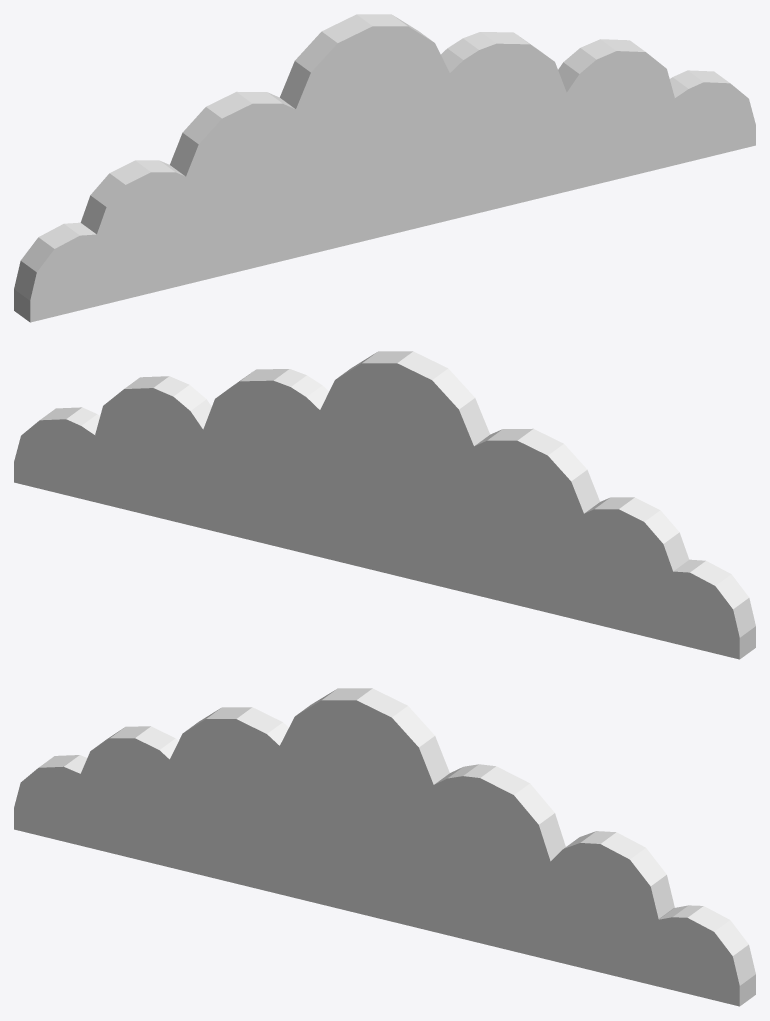
The model's file is cartoon_cloud_7.fbx.
3 renders of one model, top to bottom at view 1: azimuth 30°, elevation 25°; view 2: azimuth 150°, elevation 25°; view 3: azimuth 330°, elevation 25°, orthographic.
Visible parts, largest first — view 1: cloud_77; view 2: cloud_77; view 3: cloud_77.
Boxes of the visible parts, x1=… form: cloud_77: x1=14, y1=14, x2=755, y2=322; cloud_77: x1=14, y1=351, x2=755, y2=659; cloud_77: x1=14, y1=688, x2=755, y2=1006.
Bounding box in the file's own units: 517 × 145 × 20.
